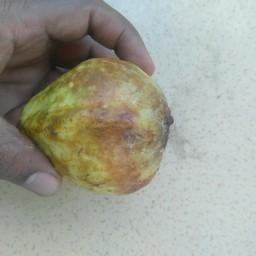Bad_guava: (13, 57, 173, 198)
